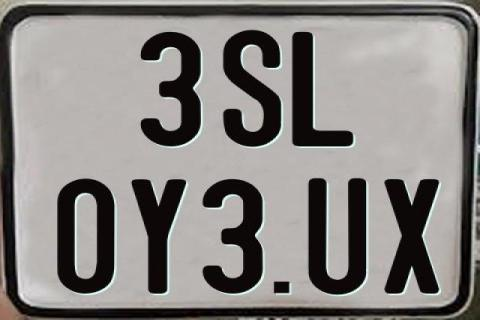0: (199, 178, 266, 294), (138, 32, 204, 148), (56, 178, 115, 294)
L: (289, 32, 352, 149)
S: (222, 29, 281, 147)
U: (306, 177, 365, 297)
X: (384, 178, 445, 296)
Y: (131, 179, 186, 299)
